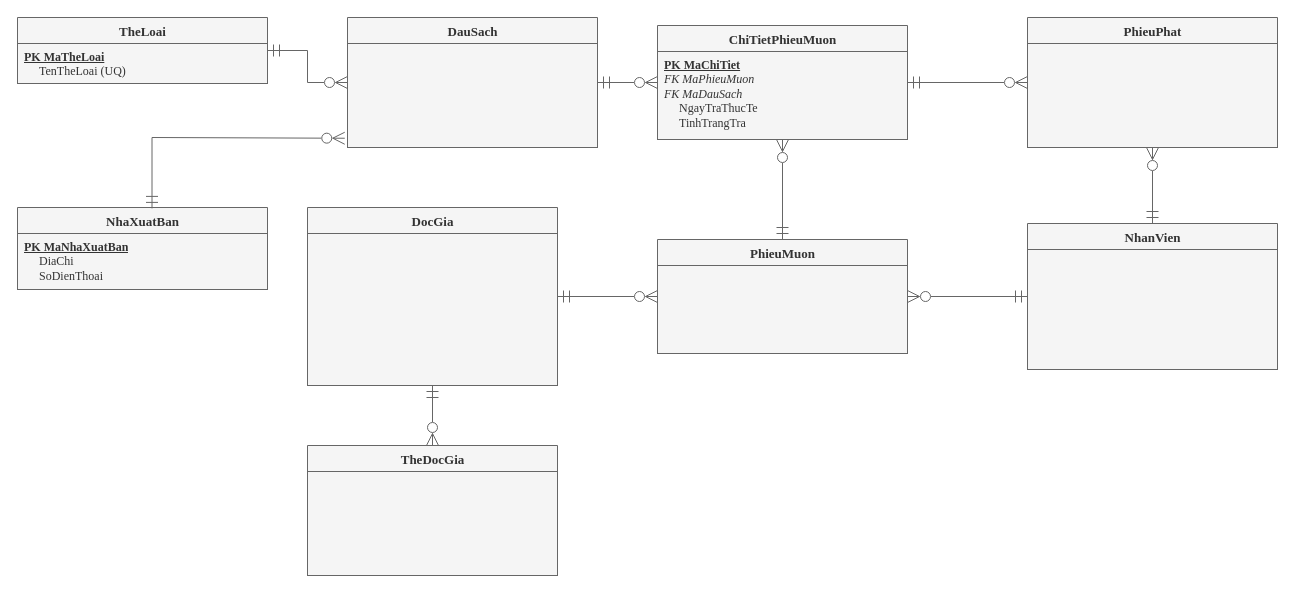
The diagram is 1295 pixels wide and 596 high, and some of its shapes have lost their labels. The centre of each missing label's shape, as x and y in pixels:
PK MaDauSach TenSach NamXuatBan SoLuongHienCo FK MaTheLoai FK MaNhaXuatBan: (472,95)
PK MaDocGia Ho Ten NgaySinh Phai SoDienThoai DiaChi Email Anh3x4: (432,309)
PK MaNhanVien Ho Ten Phai NgaySinh ChucVu SoDienThoai: (1152,309)
PK MaPhieuMuon FK MaDocGia FK MaNhanVien NgayMuon NgayHenTra: (782,309)
PK MaPhieuPhat FK MaChiTiet FK MaNhanVien NgayPhat LyDo PhiPhat: (1152,95)
PK MaThe FK MaDocGia NgayCap HanSuDung DaDongLePhi TrangThai: (432,523)
